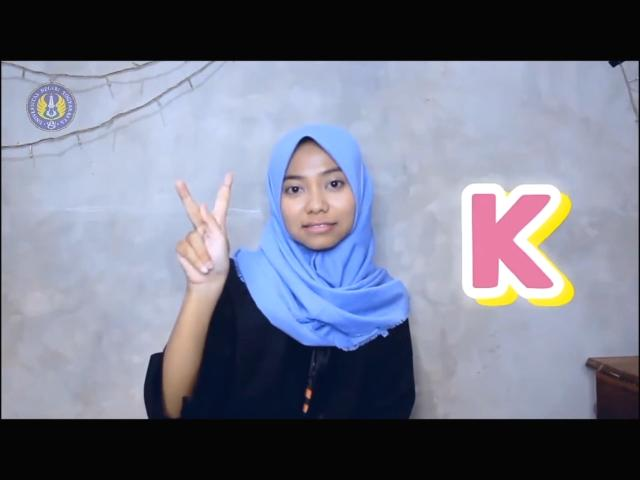K: (172, 174, 236, 290)
